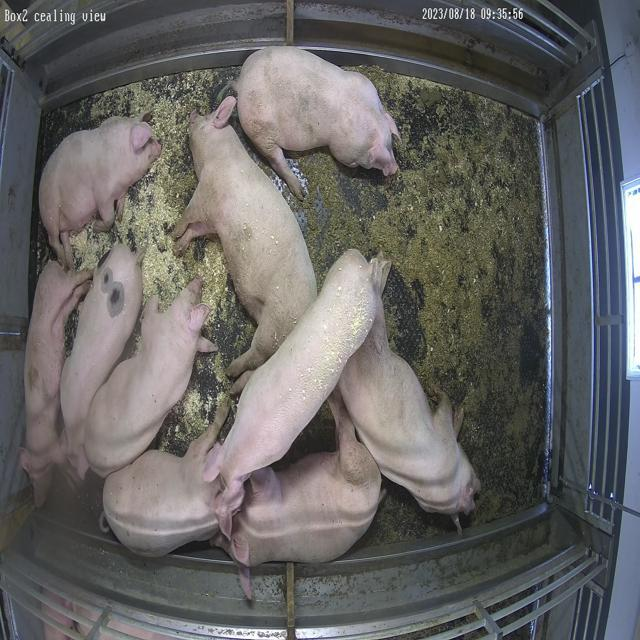Dirt: (284, 67, 549, 526), (365, 485, 455, 546), (156, 137, 197, 212)
Pig: (206, 251, 385, 536), (174, 96, 317, 394), (339, 301, 481, 528), (213, 400, 383, 568), (85, 278, 215, 478), (236, 46, 400, 198), (60, 244, 143, 478), (38, 116, 161, 269), (103, 407, 226, 558), (19, 261, 92, 508)
